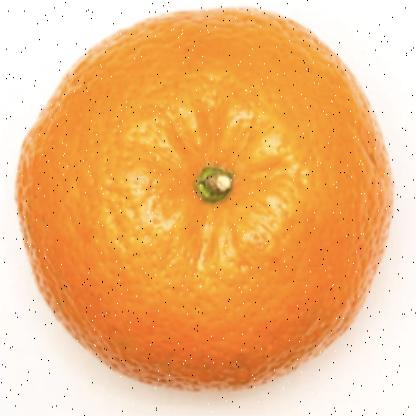fresh: (16, 8, 395, 386)
